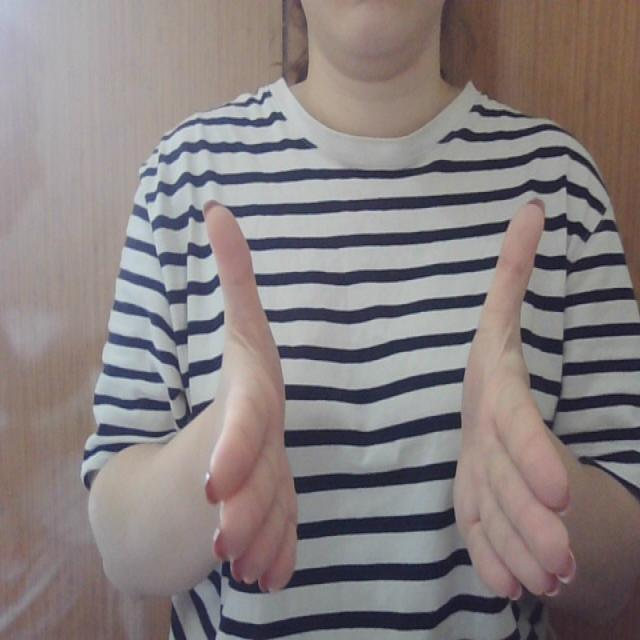Nasil: (193, 194, 585, 608)
